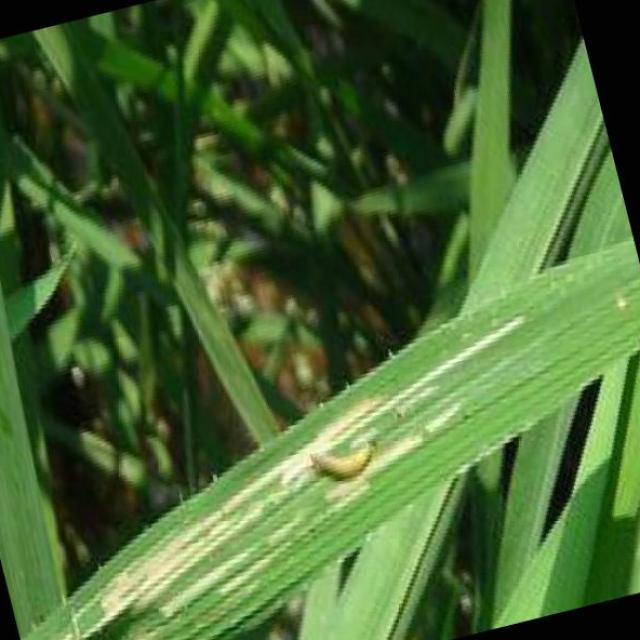leaf folder: (312, 440, 378, 480)
